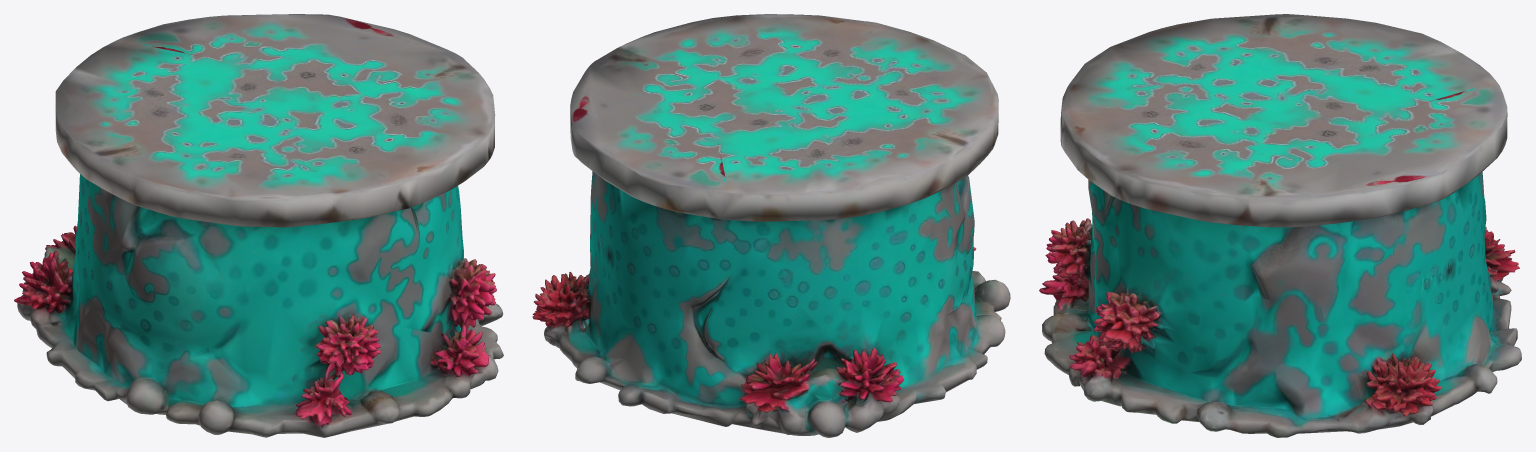
The model's file is stage_meshy.glb.
3 views of the same model, side by side, from view 1: azimuth 30°, elevation 25°; view 2: azimuth 150°, elevation 25°; view 3: azimuth 270°, elevation 25° (orthographic). The views are drawn at different scales.
Bounding box in the file's own units: 1.89 × 1.09 × 2.
Materials: 1 (1 with a texture image).
